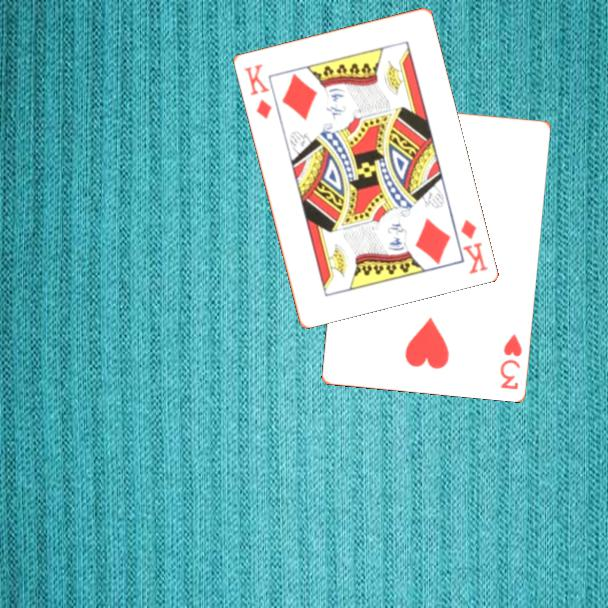d13: (240, 60, 275, 122), (457, 215, 490, 277)
h03: (496, 330, 524, 392)
